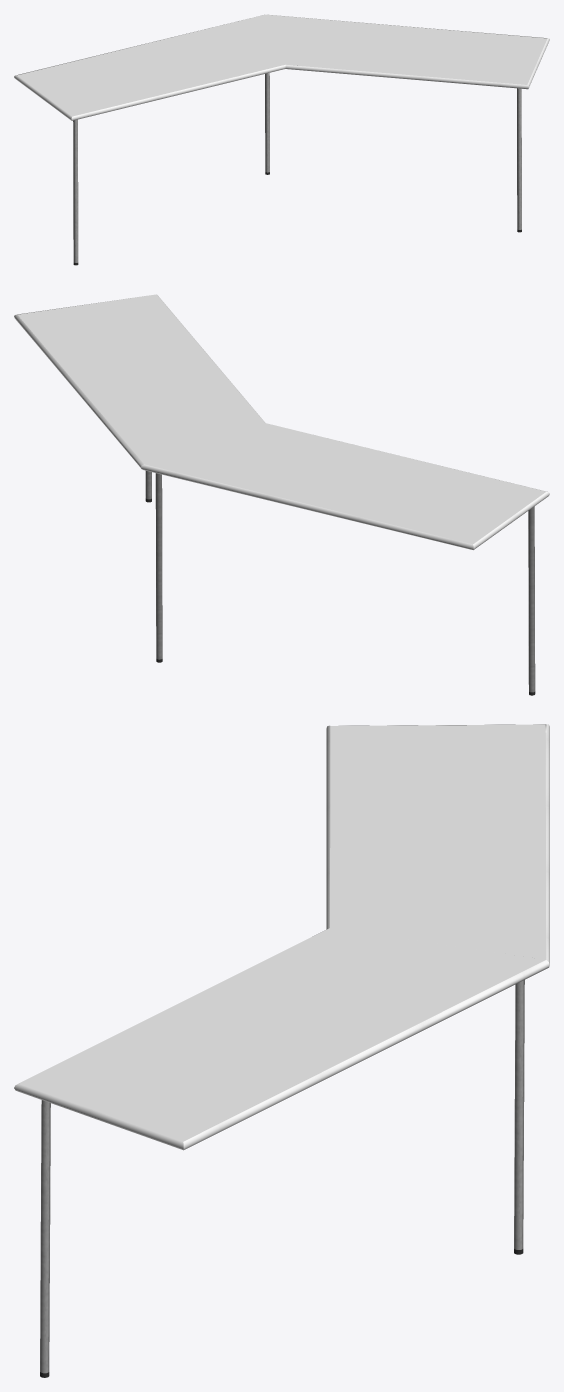
Rendered from escritorio2.obj.
The picture shows the model from 3 angles, top to bottom: view 1: azimuth 30°, elevation 25°; view 2: azimuth 150°, elevation 25°; view 3: azimuth 270°, elevation 25°; orthographic projection. The views are drawn at different scales.
Parts seen in each view (by area): view 1: Material2.004; view 2: Material2.004; view 3: Material2.004.
Boxes of the visible parts, bbox=[...] form: Material2.004: bbox=[14, 14, 549, 265]; Material2.004: bbox=[14, 294, 549, 695]; Material2.004: bbox=[14, 724, 549, 1377].
Bounding box in the file's own units: 83.06 × 27.51 × 44.94.
